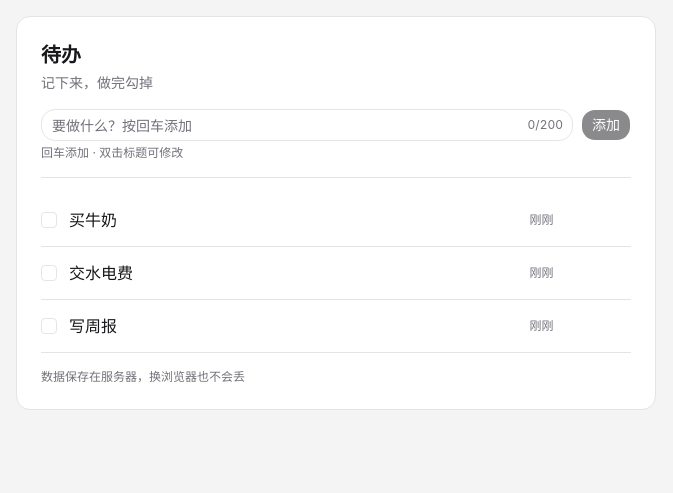
Test case: Story 3.4 行内编辑集成补充（TodoApp + 契约替身） › [P1] AC-3/AC-6 FE-E2 清空即删除失败：提示、行与编辑框仍在；恢复后再回车删除成功并清掉提示
The image size is (673, 493).
Check: the number of list items is 3, box 41,194 -> 631,247; 41,247 -> 631,300; 41,300 -> 631,353
Step 1. Double-click the button with aria-label "编辑：交水电费" → (101, 273), box 69,261 -> 517,285
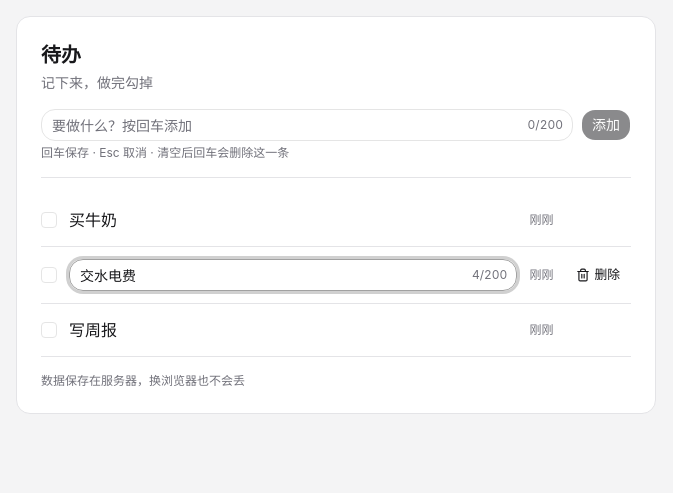
Step 2. Clear the field named "编辑待办标题：交水电费" → (293, 275), box 69,259 -> 517,291
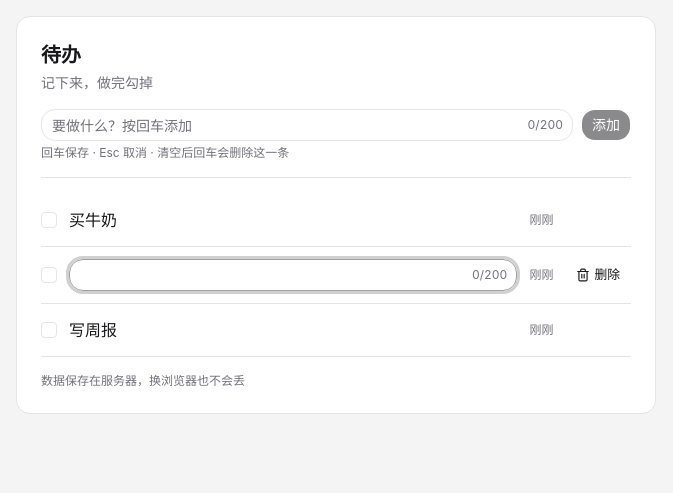
Step 3. Press Enter
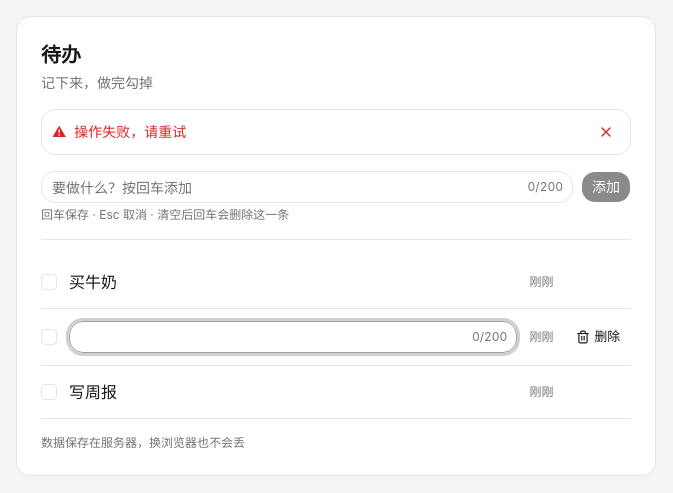
Check: the button with aria-label "删除：交水电费" is shown, box 565,323 -> 631,351
Check: the message shows "操作失败，请重试", box 74,123 -> 186,140
Step 4. Press Enter
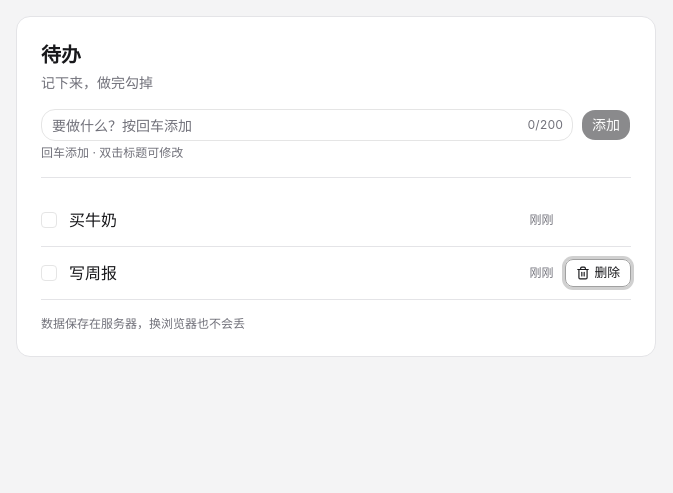
Check: the button "删除：交水电费" is gone
Check: the message "⚠ 操作失败，请重试" is gone
